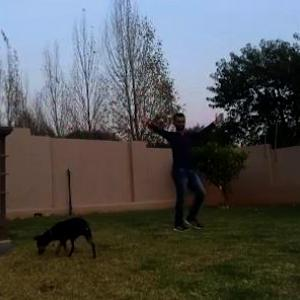takeoff: (118, 110, 226, 228)
